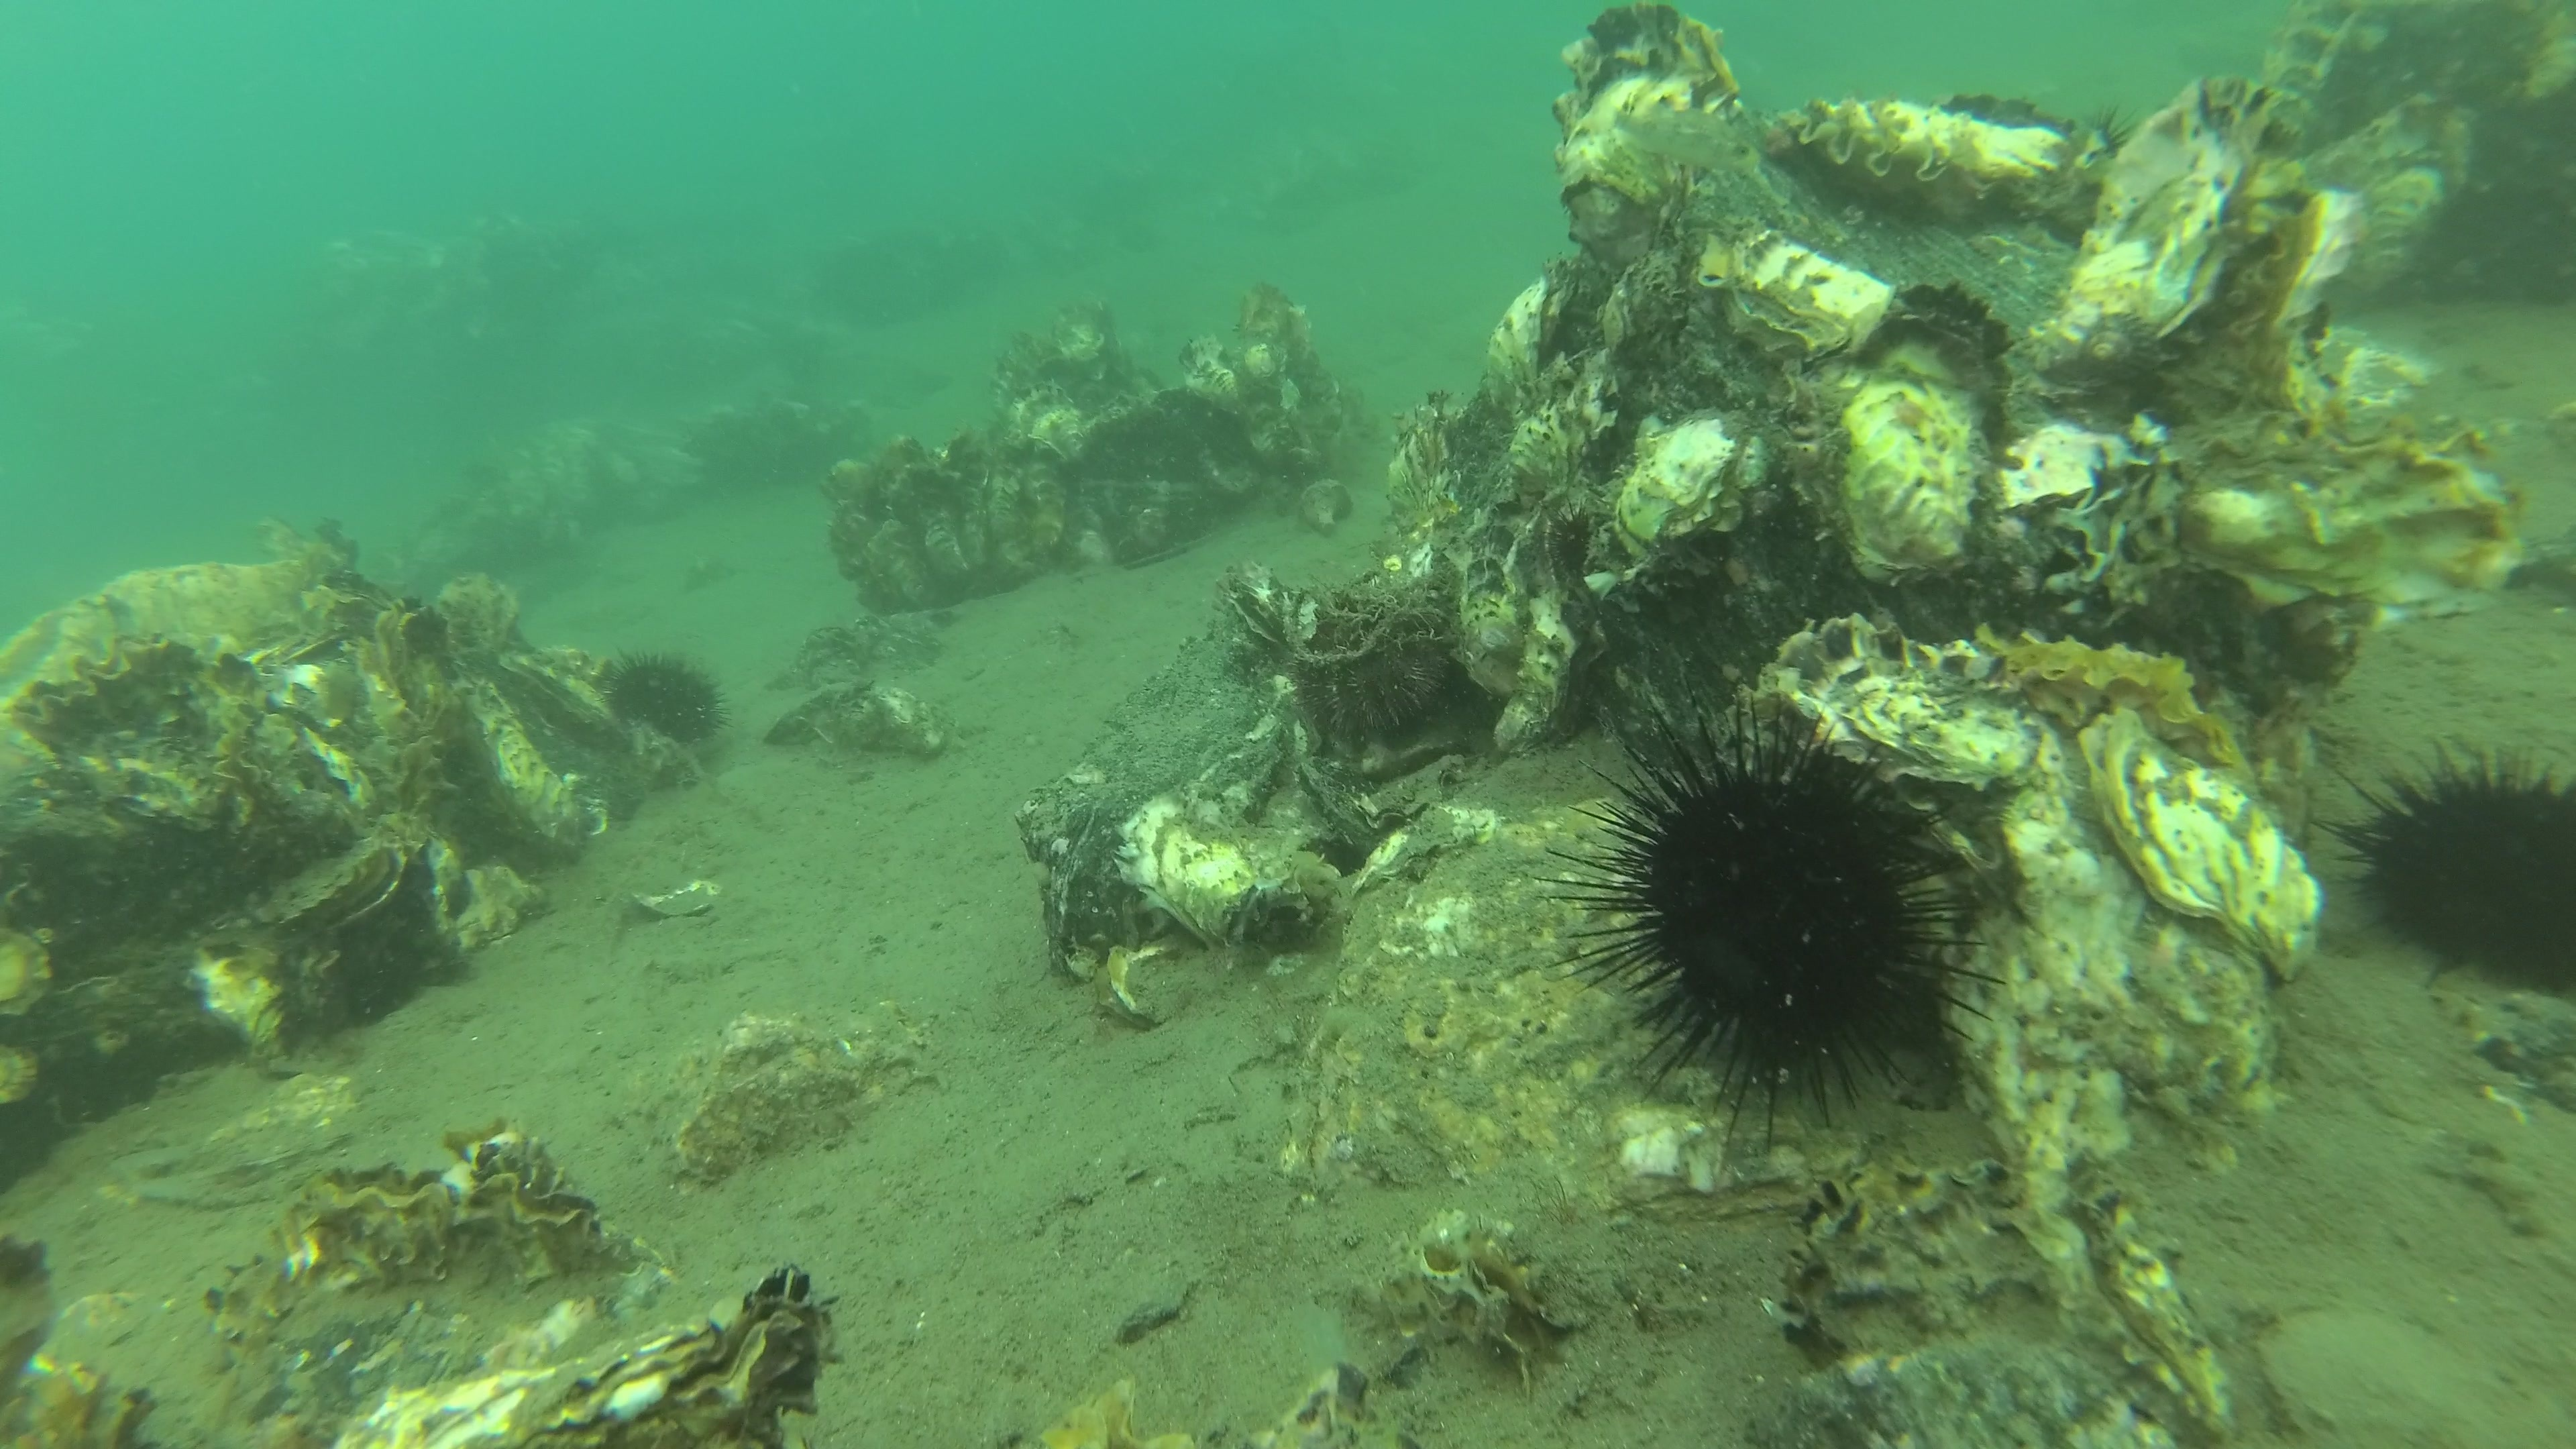echinus: (1529, 694, 2015, 1162), (2305, 731, 2576, 996), (1286, 635, 1453, 741), (596, 644, 736, 748), (1541, 495, 1596, 573), (2081, 103, 2143, 159)
